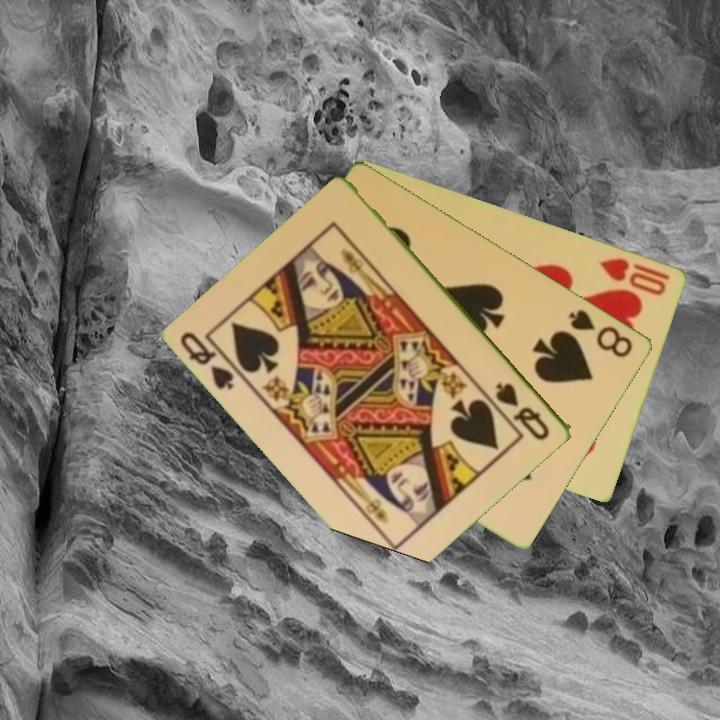10h: (596, 254, 674, 299)
8s: (565, 305, 636, 361)
Qs: (177, 328, 247, 393), (492, 379, 553, 444)
